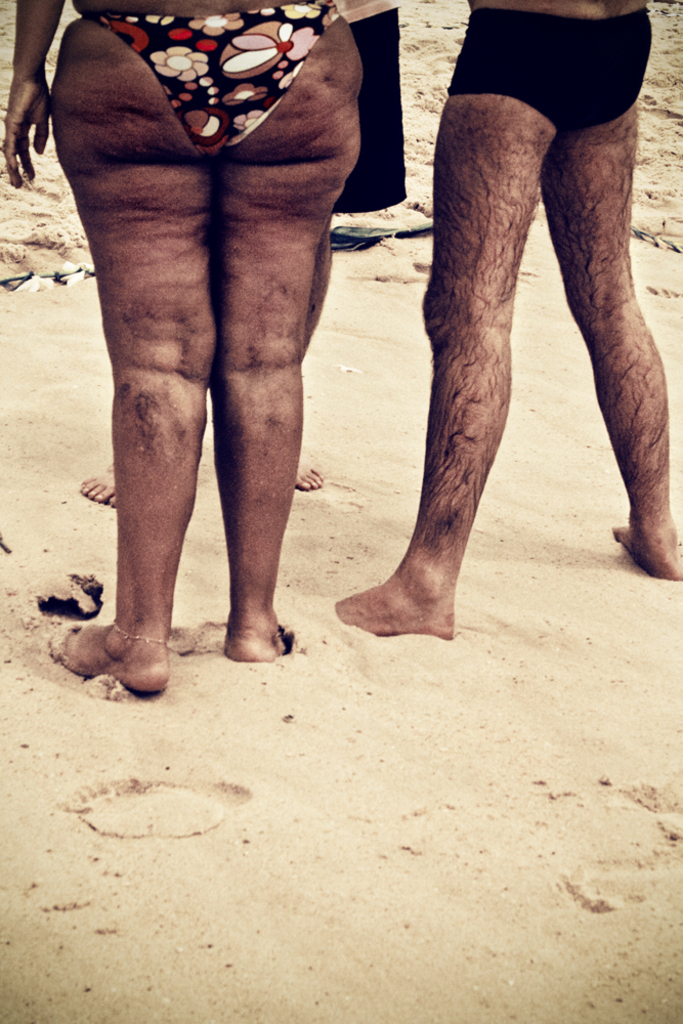Person: (5, 0, 366, 689), (332, 0, 681, 641)
